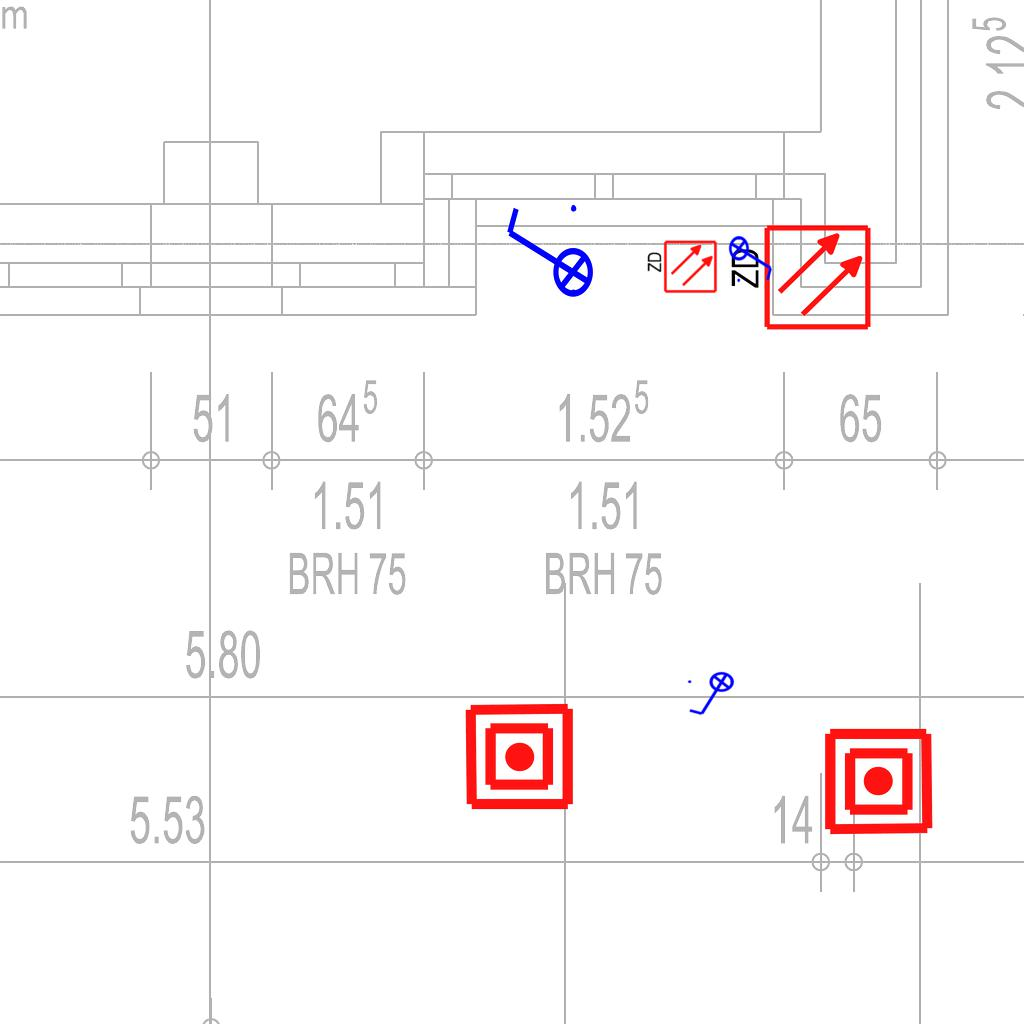Ausschalter_beleuchtet: (499, 199, 595, 311), (685, 671, 741, 719), (728, 229, 776, 285)
NAM-Nichtautomatischer_Melder: (822, 725, 935, 838), (463, 700, 576, 813)
ZD_Melder_in_Zwischendecke_mit_Revisionsoeffnung_mind_40_x_40_cm: (724, 222, 873, 336), (644, 239, 718, 296)
